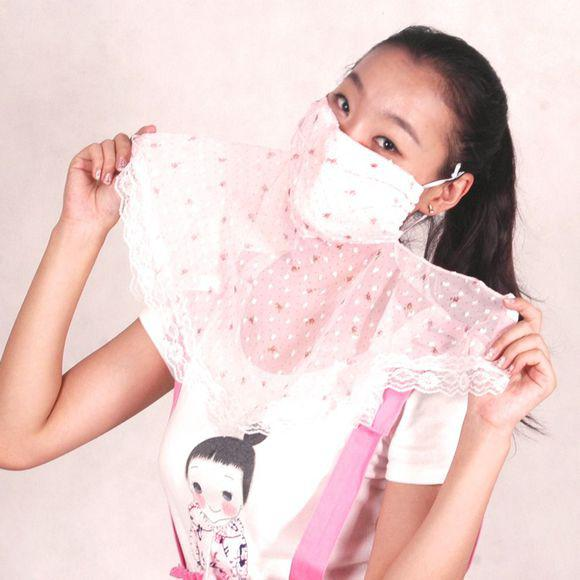OK: (290, 63, 471, 244)
